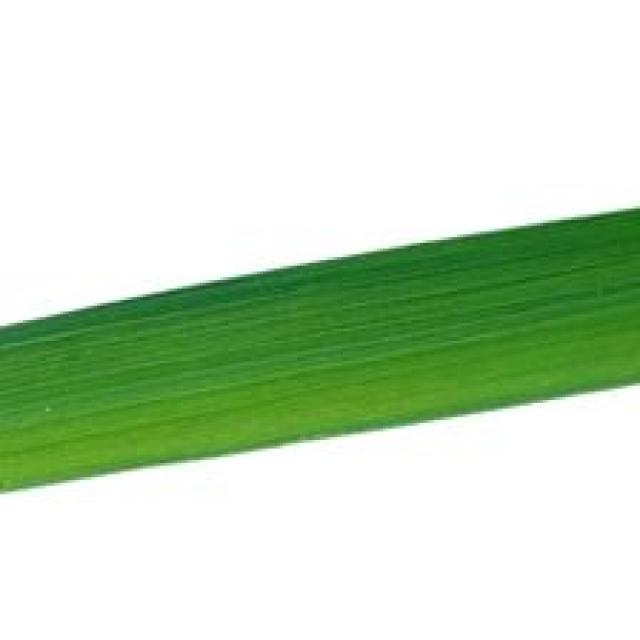Rice___Healthy_Rice_Plant: (0, 208, 637, 496)
